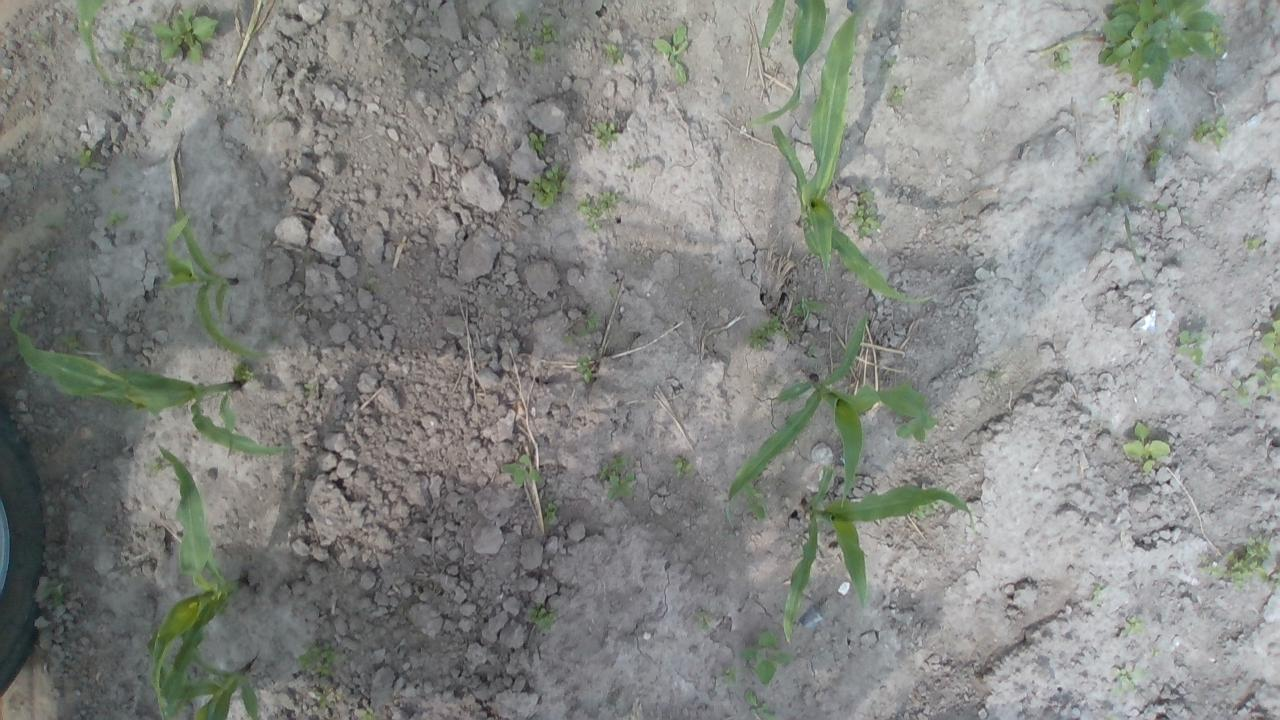Maize: (770, 7, 939, 304), (726, 314, 940, 530), (7, 304, 295, 456), (781, 467, 978, 645), (147, 442, 246, 712), (156, 202, 268, 360), (748, 0, 828, 126), (152, 643, 268, 720), (72, 0, 122, 91)
Weeds: (1098, 0, 1227, 87), (1197, 536, 1280, 588), (152, 8, 217, 65), (741, 629, 792, 686), (1122, 422, 1172, 474), (652, 24, 691, 84), (573, 190, 621, 232), (526, 164, 572, 207), (746, 312, 792, 350), (295, 640, 343, 676), (600, 455, 636, 502), (529, 15, 561, 65), (849, 186, 880, 236), (502, 452, 542, 488), (1192, 115, 1232, 148), (1176, 329, 1210, 366), (743, 688, 777, 720), (1110, 666, 1148, 694), (1255, 356, 1280, 398), (132, 64, 166, 92), (896, 419, 932, 444), (1221, 378, 1253, 405), (1047, 41, 1073, 74), (524, 604, 556, 630), (744, 485, 768, 519), (592, 120, 619, 149), (41, 579, 68, 607), (313, 684, 342, 708), (1262, 319, 1280, 356), (558, 324, 588, 344), (27, 27, 51, 52), (1099, 89, 1133, 106), (1122, 615, 1148, 637), (602, 42, 625, 66), (794, 298, 823, 317), (911, 501, 938, 520), (576, 357, 594, 384), (1088, 582, 1110, 604), (146, 453, 167, 476), (528, 132, 548, 156), (1156, 126, 1184, 143), (120, 28, 142, 48), (232, 362, 254, 382), (60, 331, 84, 349), (1147, 144, 1166, 166), (76, 147, 94, 170), (582, 309, 600, 331), (514, 10, 532, 31), (983, 367, 1008, 382), (673, 457, 693, 475), (1243, 234, 1263, 252), (108, 209, 127, 226), (880, 55, 896, 75), (544, 504, 558, 526), (890, 85, 906, 104), (723, 666, 738, 686), (356, 707, 378, 720), (698, 613, 713, 632), (162, 96, 175, 117), (626, 157, 644, 171), (1264, 2, 1280, 16), (806, 345, 820, 359), (303, 384, 317, 396), (1098, 713, 1120, 720), (1085, 155, 1099, 166), (1150, 646, 1162, 658), (606, 288, 617, 298), (1192, 370, 1202, 380)
